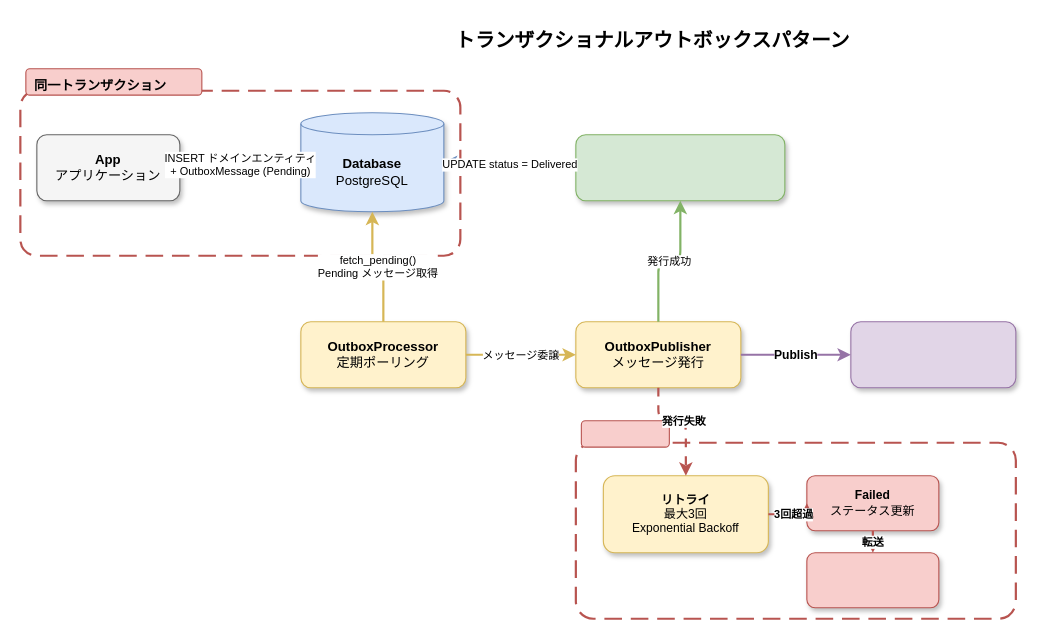
Some shapes in this 1042 by 638 pixel diagram are drawn without their labels. Each missing label, with the centre of its shape:
"DLQ Dead Letter Queue" goes at point 873,581.
"Kafka メッセージブローカー" goes at point 933,355.
"mark_delivered ステータスを Delivered に更新" goes at point 680,168.
"失敗パス" goes at point 624,433.
